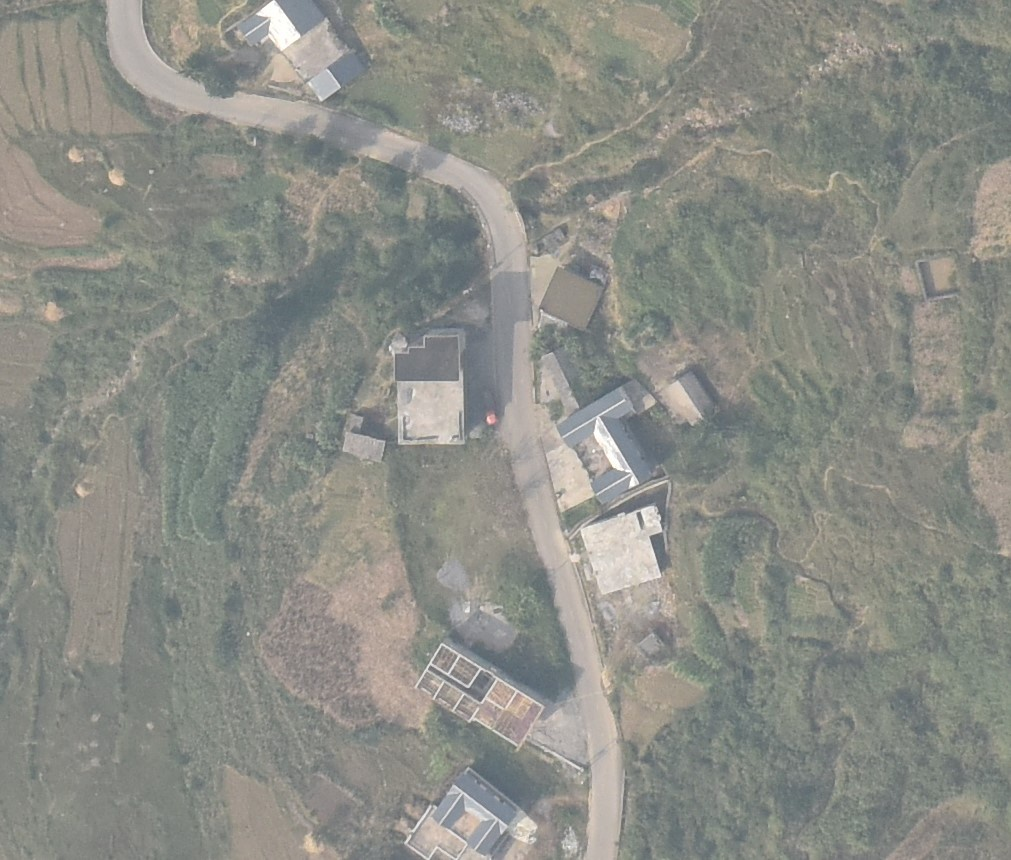building: (414, 643, 545, 748), (241, 1, 363, 100), (557, 388, 651, 502), (393, 327, 468, 446), (432, 765, 521, 850), (581, 504, 663, 595), (538, 266, 604, 328), (543, 347, 589, 413), (666, 372, 711, 429), (343, 413, 385, 463)
vehicle: (484, 407, 496, 425)
